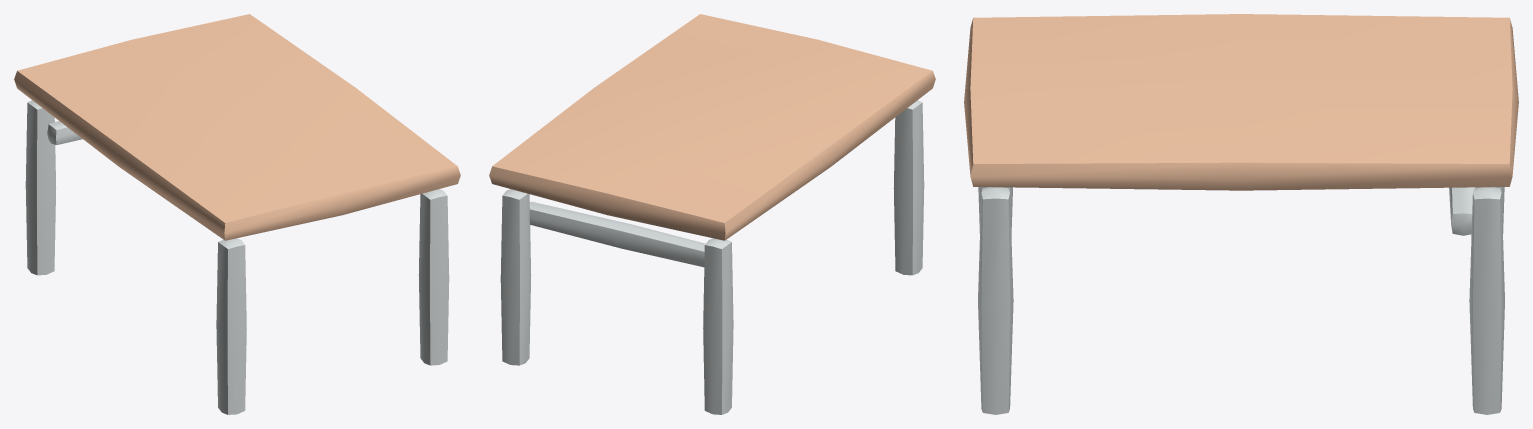
The model's file is workstation-desk-compact.glb.
The picture shows the model from 3 angles, left to right: view 1: azimuth 30°, elevation 25°; view 2: azimuth 150°, elevation 25°; view 3: azimuth 270°, elevation 25°; orthographic projection. The views are drawn at different scales.
Parts seen in each view (by area): view 1: desktop, part (×4); view 2: desktop, part (×4); view 3: desktop, part (×3).
Boxes of the visible parts, x1,y1,x2,y2 form: desktop: (14,14,460,240); part (×4): (25,100,449,414); desktop: (489,14,935,240); part (×4): (500,100,924,414); desktop: (964,14,1518,190); part (×3): (978,187,1504,414).
Size of the model in its own units: 0.92 by 0.74 by 1.4.
1 material, 1 textured.
